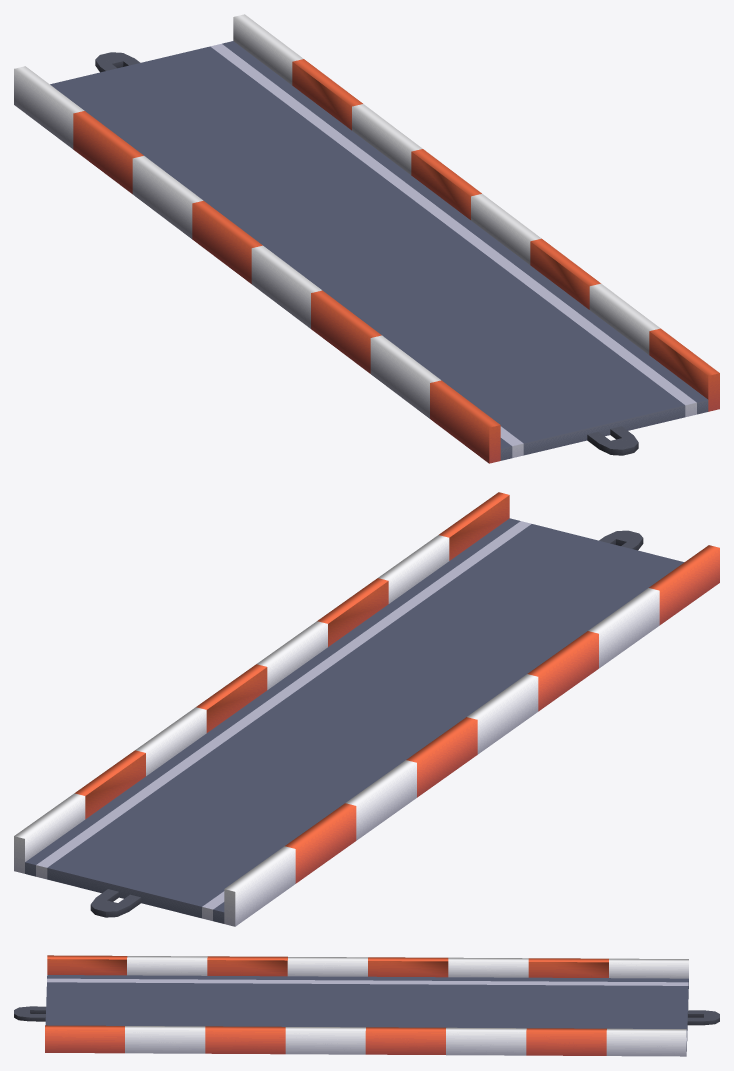
File: track-road-wide-straight.010_lev2.glb
3 renders of one model, top to bottom at view 1: azimuth 30°, elevation 25°; view 2: azimuth 150°, elevation 25°; view 3: azimuth 270°, elevation 25°, orthographic. The views are drawn at different scales.
Visible parts, largest first — view 1: track-road-wide-straight.010_lev2; view 2: track-road-wide-straight.010_lev2; view 3: track-road-wide-straight.010_lev2.
Part boxes in pixels (box(x1,y1,x2,y2)): track-road-wide-straight.010_lev2: box(14, 14, 719, 463); track-road-wide-straight.010_lev2: box(14, 492, 719, 926); track-road-wide-straight.010_lev2: box(14, 955, 719, 1056).
Size of the model in its own units: 2.1 by 0.3 by 8.1.
1 material, 1 textured.
